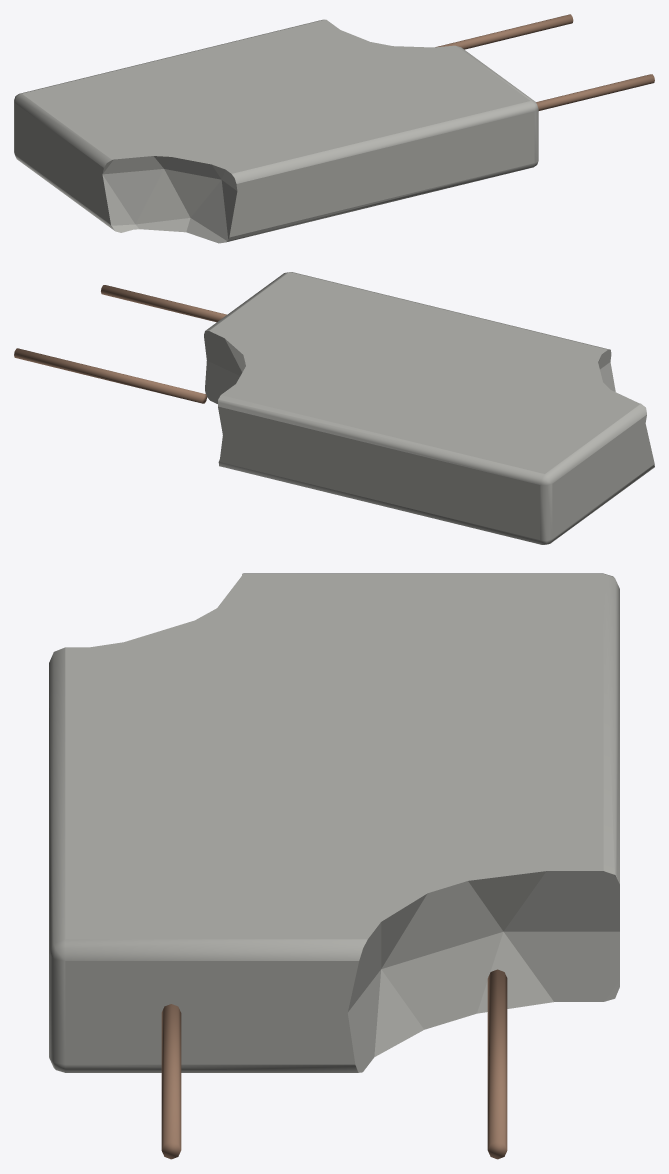
3 views of the same model, one above another, from view 1: azimuth 30°, elevation 25°; view 2: azimuth 150°, elevation 25°; view 3: azimuth 270°, elevation 25° (orthographic). The views are drawn at different scales.
Parts seen in each view (by area): view 1: slab, rebar.001, rebar; view 2: slab, rebar.001, rebar; view 3: slab, rebar.001, rebar.
Boxes of the visible parts, left/top/right/bottom form: slab: left=14, top=19, right=538, bottom=243; rebar.001: left=435, top=14, right=573, bottom=49; rebar: left=536, top=74, right=654, bottom=110; slab: left=204, top=272, right=654, bottom=544; rebar.001: left=14, top=348, right=206, bottom=403; rebar: left=101, top=285, right=226, bottom=322; slab: left=49, top=573, right=619, bottom=1072; rebar.001: left=487, top=969, right=507, bottom=1159; rebar: left=161, top=1004, right=181, bottom=1159.
Size of the model in its own units: 1.5 by 0.18 by 0.7.
